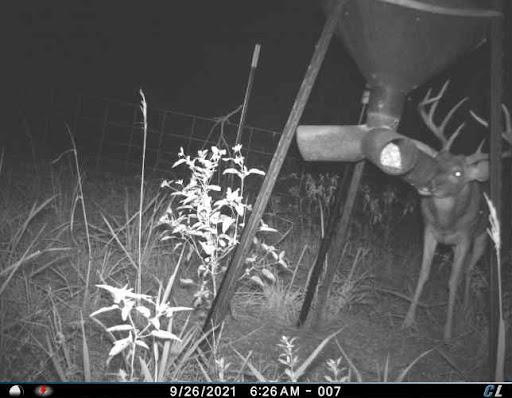Deer: (397, 71, 512, 357)
